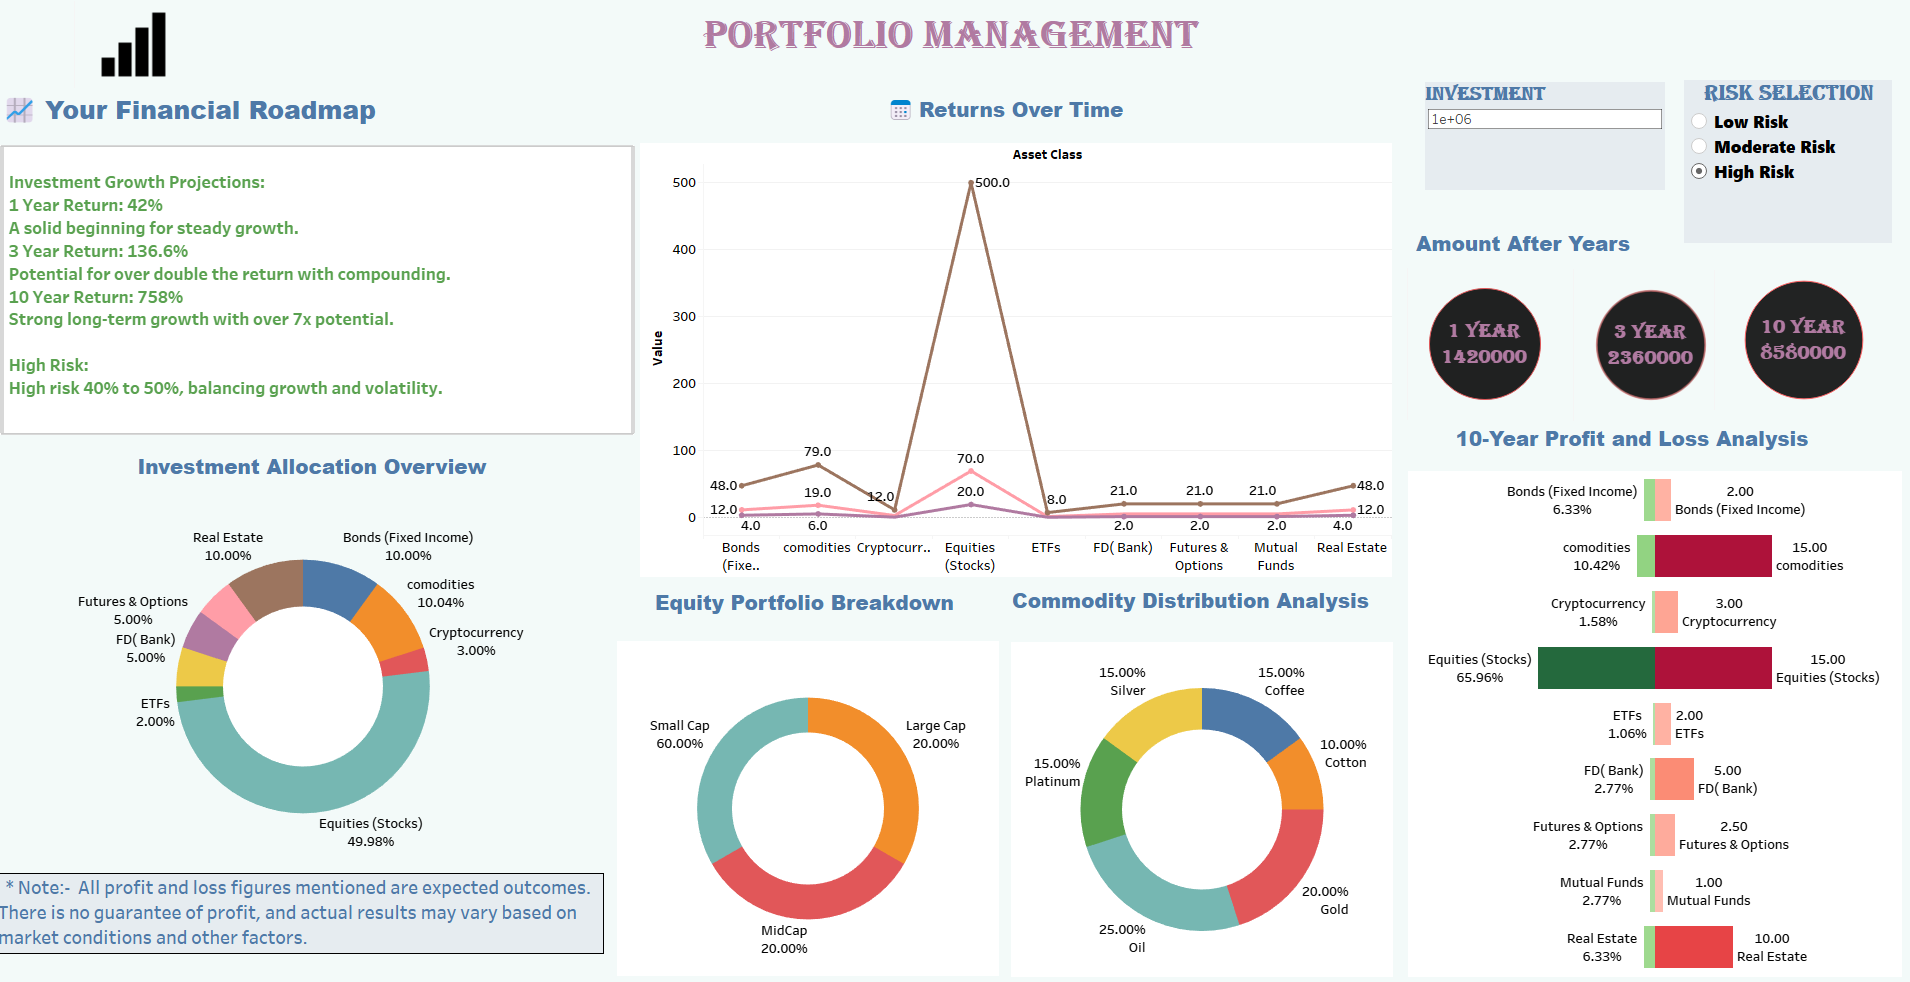

The dashboard page shown, as its layout file describes it:
{"tool":"tableau","page":{"name":"Dashboard 1","canvas":[1000,1000],"units":"permille","ordinal":0},"visuals":[{"type":"worksheet","title":"Sheet 36","mark":"Shape","rows":["Calculation_1812135905712029697"],"box":[43.5,7.5,62.8,87.4]},{"type":"title","box":[4.8,10,990.3,81.2]},{"type":"parameter","param":"[Parameters].[Parameter 1]","box":[881.7,86.1,108.6,164.8]},{"type":"parameter","param":"[Parameters].[Parameter 2]","box":[747.1,88.6,124.9,108.6]},{"type":"worksheet","title":"Heading Your Financial Roadmap","mark":"Automatic","box":[3,93.6,332.3,52.4]},{"type":"worksheet","title":"Returns Over years","mark":"Automatic","box":[341,97.4,377.8,47.4]},{"type":"worksheet","title":"Return For Low","mark":"Line","cols":["Asset Class"],"box":[338,149.8,392.3,436.9]},{"type":"worksheet","title":"Return For Moderate","mark":"Line","cols":["Asset Class"],"box":[338,149.8,392.3,436.9]},{"type":"worksheet","title":"Return For High","mark":"Line","cols":["Asset Class"],"box":[338,149.8,392.3,436.9]},{"type":"worksheet","title":"heading Summary","mark":"Automatic","rows":["Calculation_882705533022289921"],"box":[4.8,151.1,330.5,293.4]},{"type":"worksheet","title":"Heading Summary","mark":"Automatic","rows":["Calculation_882705533028532226"],"box":[4.8,151.1,330.5,293.4]},{"type":"worksheet","title":"High Risk Summary","mark":"Automatic","rows":["Calculation_882705533028896771"],"box":[4.8,152.3,330.5,292.1]},{"type":"worksheet","title":"Heading Amount After Years","mark":"Automatic","box":[739.9,232.2,137.6,44.9]},{"type":"worksheet","title":"1 Year Low Amount","mark":"Circle","rows":["Calculation_1812135905712029697"],"box":[737.5,275.9,81.5,153.6]},{"type":"worksheet","title":"1 Year Moderate Amount","mark":"Circle","rows":["Calculation_1812135905712029697"],"box":[737.5,275.9,81.5,153.6]},{"type":"worksheet","title":"1 Year High Amount","mark":"Circle","rows":["Calculation_1812135905712029697"],"box":[737.5,275.9,81.5,153.6]},{"type":"worksheet","title":"3 Years Low Amount","mark":"Circle","rows":["Calculation_1812135905712029697"],"box":[823.8,277.2,81.5,153.6]},{"type":"worksheet","title":"3 Year Moderate Amount","mark":"Circle","rows":["Calculation_1812135905712029697"],"box":[823.8,277.2,81.5,153.6]},{"type":"worksheet","title":"3 year High Amount","mark":"Circle","rows":["Calculation_1812135905712029697"],"box":[823.8,277.2,81.5,153.6]},{"type":"worksheet","title":"10 Year Low Amount","mark":"Circle","rows":["Calculation_1812135905712029697"],"box":[897.4,278.4,93.5,141.1]},{"type":"worksheet","title":"10 Year Moderate Amount","mark":"Circle","rows":["Calculation_1812135905712029697"],"box":[897.4,278.4,93.5,141.1]},{"type":"worksheet","title":"10 years High Amount","mark":"Circle","rows":["Calculation_1812135905712029697"],"box":[897.4,278.4,93.5,141.1]},{"type":"worksheet","title":"Heading 10 Years Profit and Loss Analysis","mark":"Automatic","box":[709.1,429.5,291.5,44.9]},{"type":"worksheet","title":"Heading Investment Allocation Overview","mark":"Automatic","box":[3,456.9,328.2,51.2]},{"type":"worksheet","title":"Low Risk Vs profit","mark":"Automatic","rows":["Asset Class"],"cols":["Low(Last 10-Year Return (%))","Low Risk (Potential Loss (%) Of  Total Capital)"],"box":[738.1,480.7,257.7,509.4]},{"type":"worksheet","title":"Moderate Risk Vs Profit","mark":"Automatic","rows":["Asset Class"],"cols":["Moderate(Last 10-Year Return (%))","Moderate Risk (Potential Loss (%) Of  Total Capital)"],"box":[738.1,480.7,257.7,509.4]},{"type":"worksheet","title":"High Risk Vs Profit","mark":"Automatic","rows":["Asset Class"],"cols":["High(Last 10-Year Return (%))","High Risk (Potential Loss (%) Of  Total Capital)"],"box":[738.1,480.7,257.7,509.4]},{"type":"worksheet","title":"High Asset Allocation","mark":"Pie","rows":["Calculation_1812135905712029697","Calculation_1812135905712029697"],"box":[5.4,518.1,314.5,359.6]},{"type":"worksheet","title":"Low Asset Allocation","mark":"Pie","rows":["Calculation_1812135905712029697","Calculation_1812135905712029697"],"box":[5.4,520.6,314.3,357.1]},{"type":"worksheet","title":"Moderate Asset Allocation","mark":"Pie","rows":["Calculation_1812135905712029697","Calculation_1812135905712029697"],"box":[5.4,520.6,314.3,357.1]},{"type":"worksheet","title":"Heading Commodity Distribution Analysis","mark":"Automatic","box":[518.4,591.8,213,49.9]},{"type":"worksheet","title":"Heading Equity Portfolio BreakDown","mark":"Automatic","box":[321.1,594.3,205.8,47.4]},{"type":"worksheet","title":"Equities Distrubution For Low","mark":"Pie","rows":["Calculation_1812135905712029697","Calculation_1812135905712029697"],"box":[325.9,651.7,199.2,337.1]},{"type":"worksheet","title":"Equities Distrubution For Moderate","mark":"Pie","rows":["Calculation_1812135905712029697","Calculation_1812135905712029697"],"box":[325.9,651.7,199.2,337.1]},{"type":"worksheet","title":"Equities Distrubution For High","mark":"Pie","rows":["Calculation_1812135905712029697","Calculation_1812135905712029697"],"box":[325.9,651.7,199.2,337.1]},{"type":"worksheet","title":"Commodities Distrubution For Low Risk","mark":"Pie","rows":["Calculation_1812135905712029697","Calculation_1812135905712029697"],"box":[531.1,652.9,199.2,337.1]},{"type":"worksheet","title":"Commodities Distrubution For Moderate Risk","mark":"Pie","rows":["Calculation_1812135905712029697","Calculation_1812135905712029697"],"box":[531.1,652.9,199.2,337.1]},{"type":"worksheet","title":"Commodities Distrubution For High Risk","mark":"Pie","rows":["Calculation_1812135905712029697","Calculation_1812135905712029697"],"box":[531.1,652.9,199.2,337.1]},{"type":"worksheet","title":"Heading Note","mark":"Automatic","box":[3,885.1,316.2,98.6]}]}

Visuals, with their boxes on the dashboard's canvas, which has no fixed pixel size, in thousandths of its width and height (x1, y1, x2, y2). These are canvas units, not pixel positions in the 1910x982 screenshot, which may show the page scaled, cropped or inside an application window:
"Sheet 36" worksheet (Shape marks): 44 8 106 95
title: 5 10 995 91
parameter: 882 86 990 251
parameter: 747 89 872 197
"Heading Your Financial Roadmap" worksheet: 3 94 335 146
"Returns Over years" worksheet: 341 97 719 145
"Return For Low" worksheet (Line marks): 338 150 730 587
"Return For Moderate" worksheet (Line marks): 338 150 730 587
"Return For High" worksheet (Line marks): 338 150 730 587
"heading Summary" worksheet: 5 151 335 444
"Heading Summary" worksheet: 5 151 335 444
"High Risk Summary" worksheet: 5 152 335 444
"Heading Amount After Years" worksheet: 740 232 878 277
"1 Year Low Amount" worksheet (Circle marks): 738 276 819 430
"1 Year Moderate Amount" worksheet (Circle marks): 738 276 819 430
"1 Year High Amount" worksheet (Circle marks): 738 276 819 430
"3 Years Low Amount" worksheet (Circle marks): 824 277 905 431
"3 Year Moderate Amount" worksheet (Circle marks): 824 277 905 431
"3 year High Amount" worksheet (Circle marks): 824 277 905 431
"10 Year Low Amount" worksheet (Circle marks): 897 278 991 420
"10 Year Moderate Amount" worksheet (Circle marks): 897 278 991 420
"10 years High Amount" worksheet (Circle marks): 897 278 991 420
"Heading 10 Years Profit and Loss Analysis" worksheet: 709 430 1001 474
"Heading Investment Allocation Overview" worksheet: 3 457 331 508
"Low Risk Vs profit" worksheet: 738 481 996 990
"Moderate Risk Vs Profit" worksheet: 738 481 996 990
"High Risk Vs Profit" worksheet: 738 481 996 990
"High Asset Allocation" worksheet (Pie marks): 5 518 320 878
"Low Asset Allocation" worksheet (Pie marks): 5 521 320 878
"Moderate Asset Allocation" worksheet (Pie marks): 5 521 320 878
"Heading Commodity Distribution Analysis" worksheet: 518 592 731 642
"Heading Equity Portfolio BreakDown" worksheet: 321 594 527 642
"Equities Distrubution For Low" worksheet (Pie marks): 326 652 525 989
"Equities Distrubution For Moderate" worksheet (Pie marks): 326 652 525 989
"Equities Distrubution For High" worksheet (Pie marks): 326 652 525 989
"Commodities Distrubution For Low Risk" worksheet (Pie marks): 531 653 730 990
"Commodities Distrubution For Moderate Risk" worksheet (Pie marks): 531 653 730 990
"Commodities Distrubution For High Risk" worksheet (Pie marks): 531 653 730 990
"Heading Note" worksheet: 3 885 319 984
